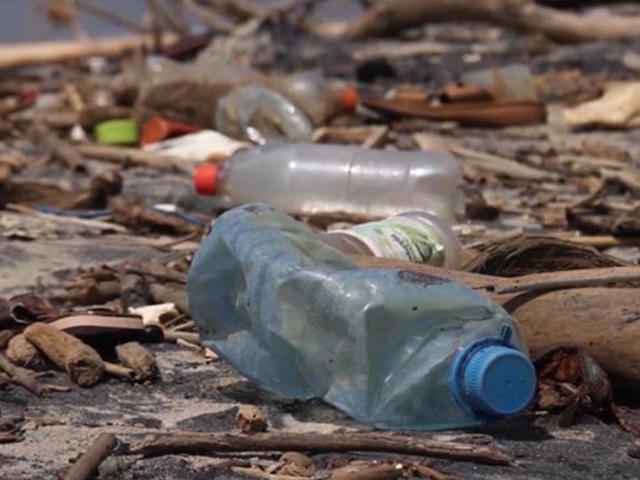bottle: (183, 201, 536, 427), (191, 146, 474, 224), (304, 209, 459, 279)
